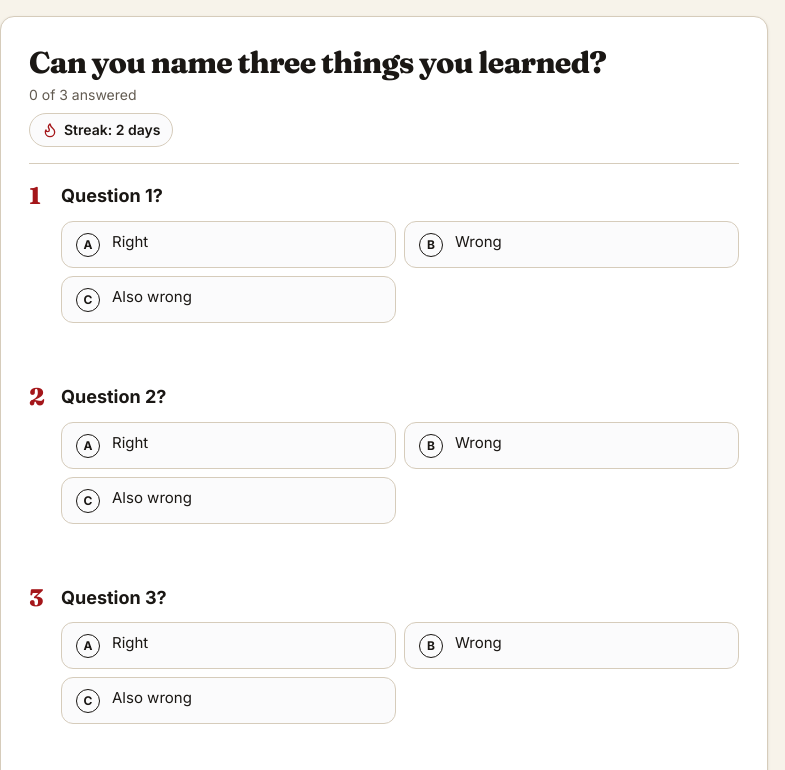
Test: QuizSection › shows the streak, and counts today once all questions are answered
This screenshot has width=785, height=770.
Expected: the text with test id "quiz-streak-count" reads "2", [116, 121, 124, 138]
Click the button "A Right" below "Question 1?" at (130, 241), box [61, 221, 396, 268]
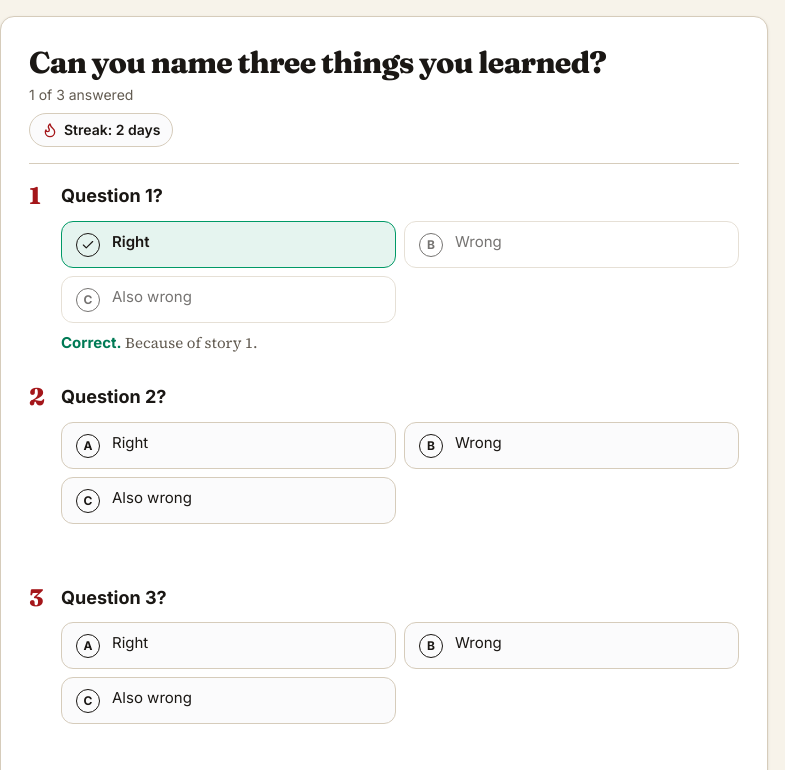
Click the button "A Right" below "Question 2?" at (130, 442), box [61, 422, 396, 468]
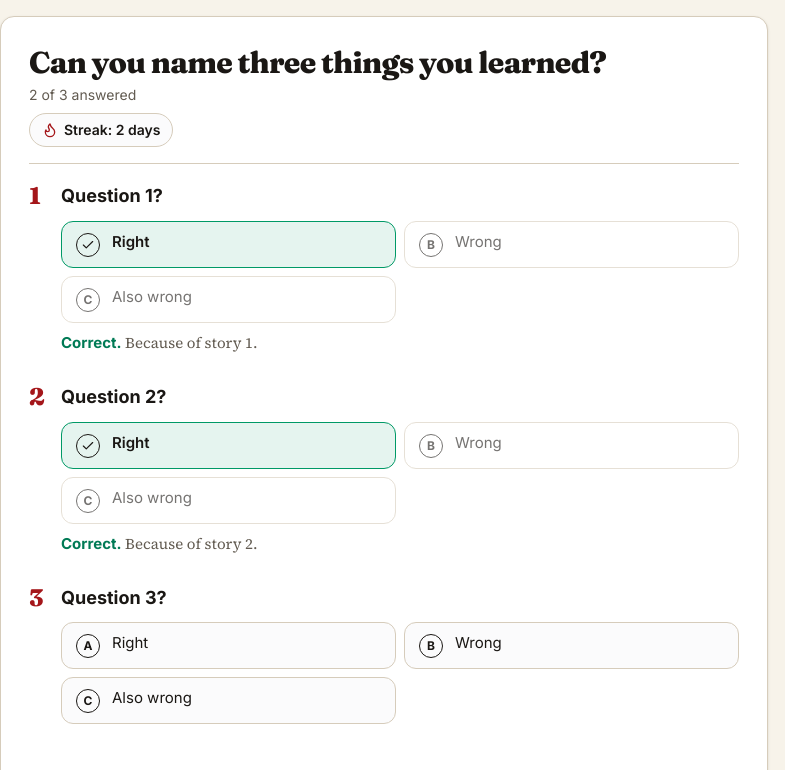
Click the button "A Right" at (130, 643), box [61, 622, 396, 669]
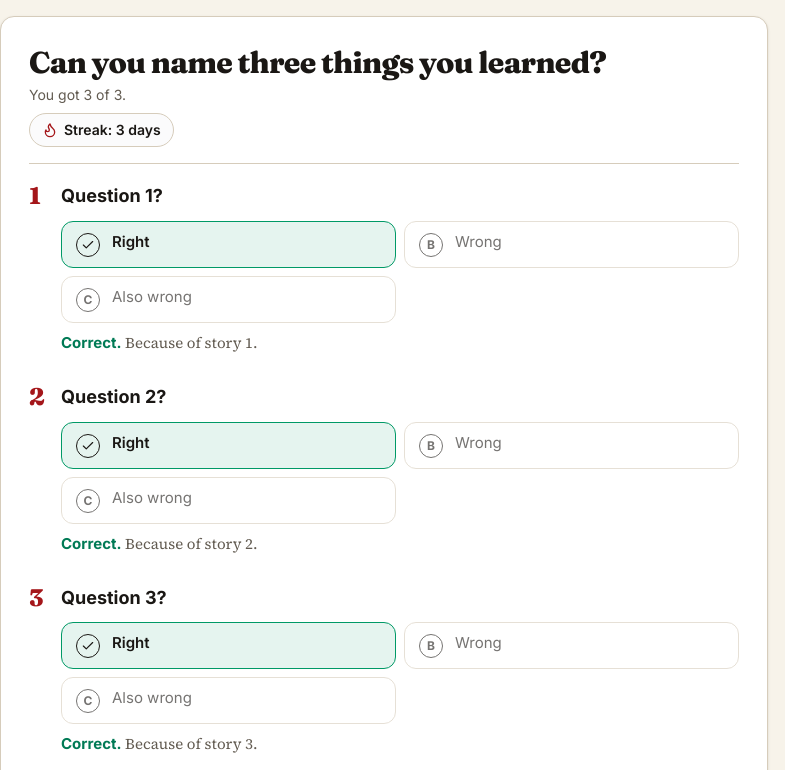
Result: the text with test id "quiz-streak-count" reads "3" at [116, 121, 125, 138]
Result: the text "You got 3 of 3." is shown at [29, 86, 126, 103]
